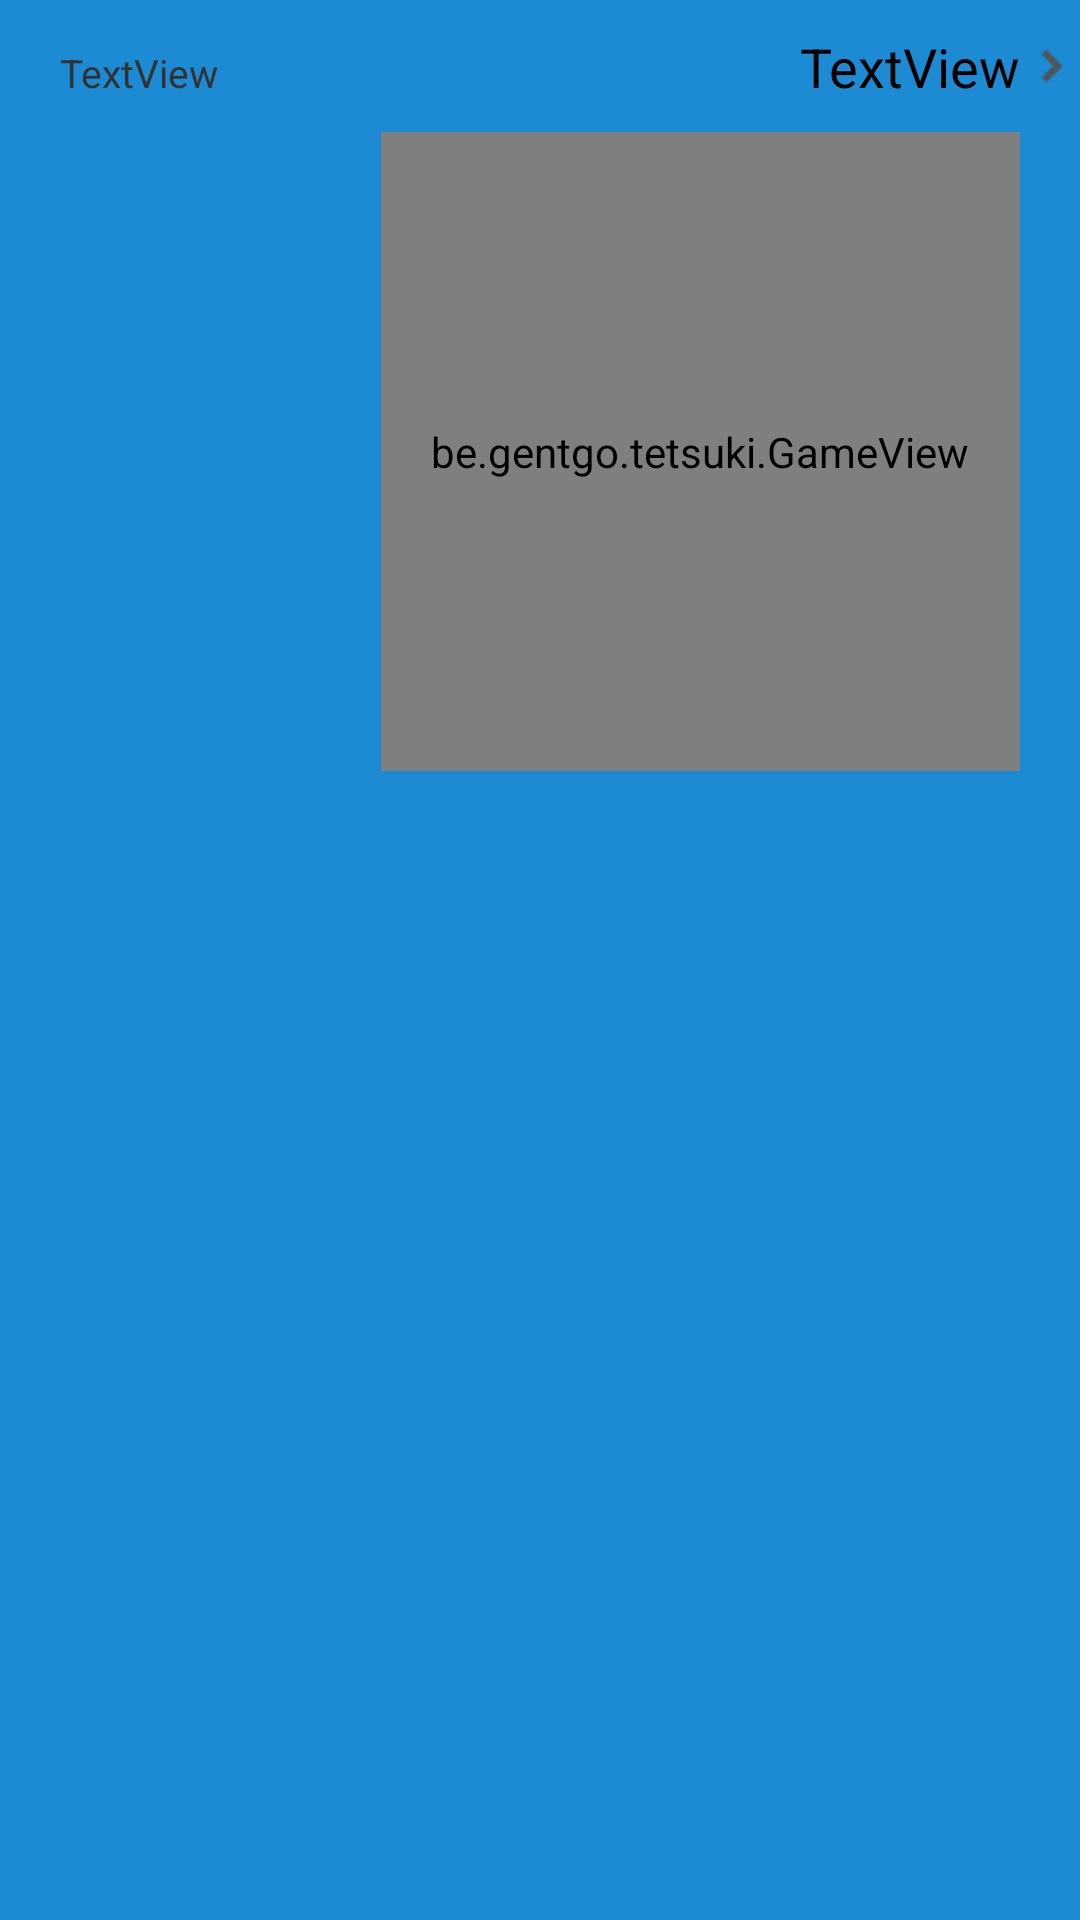

Screen size 1080px×1920px. Icon name, then its center in pixels as (x,y):
chevron: (1052,65)
